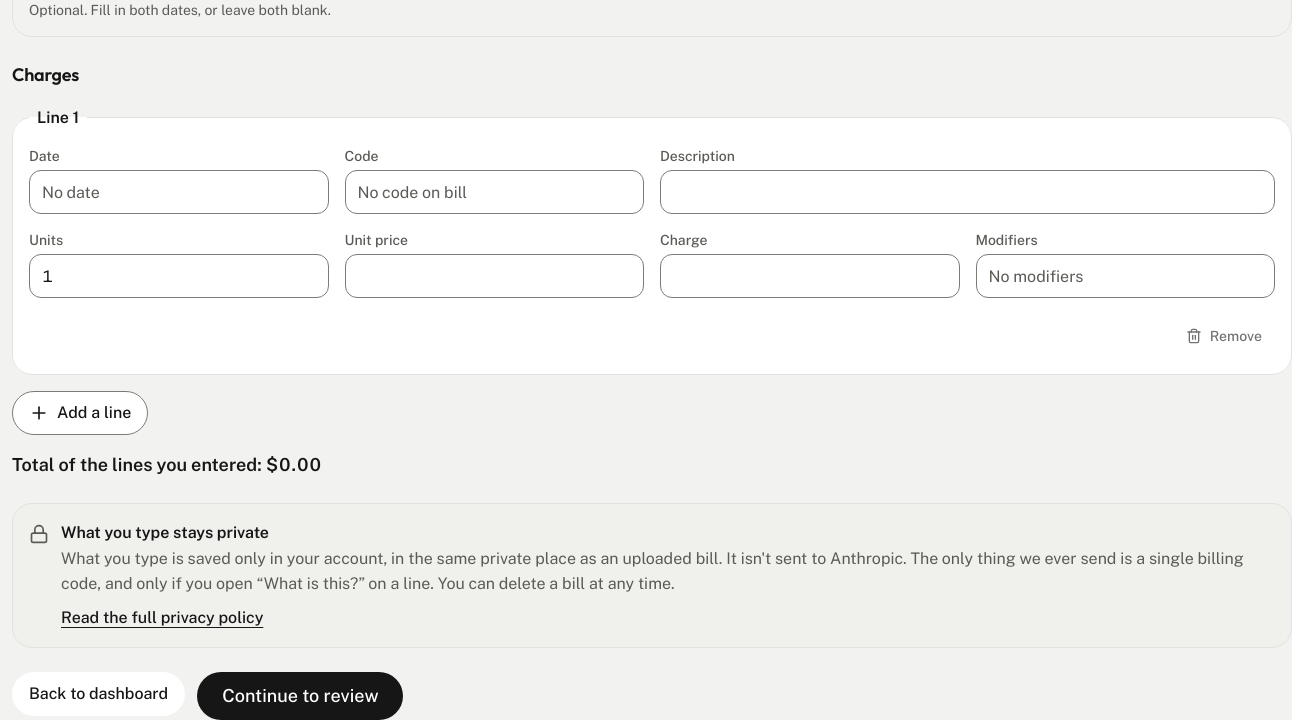
it: ManualEntryForm › does not submit a blank form and says what is missing
(page scrolled)
Click the button "Continue to review" at coordinates (300, 696), box [197,672,404,719]
(page scrolled)
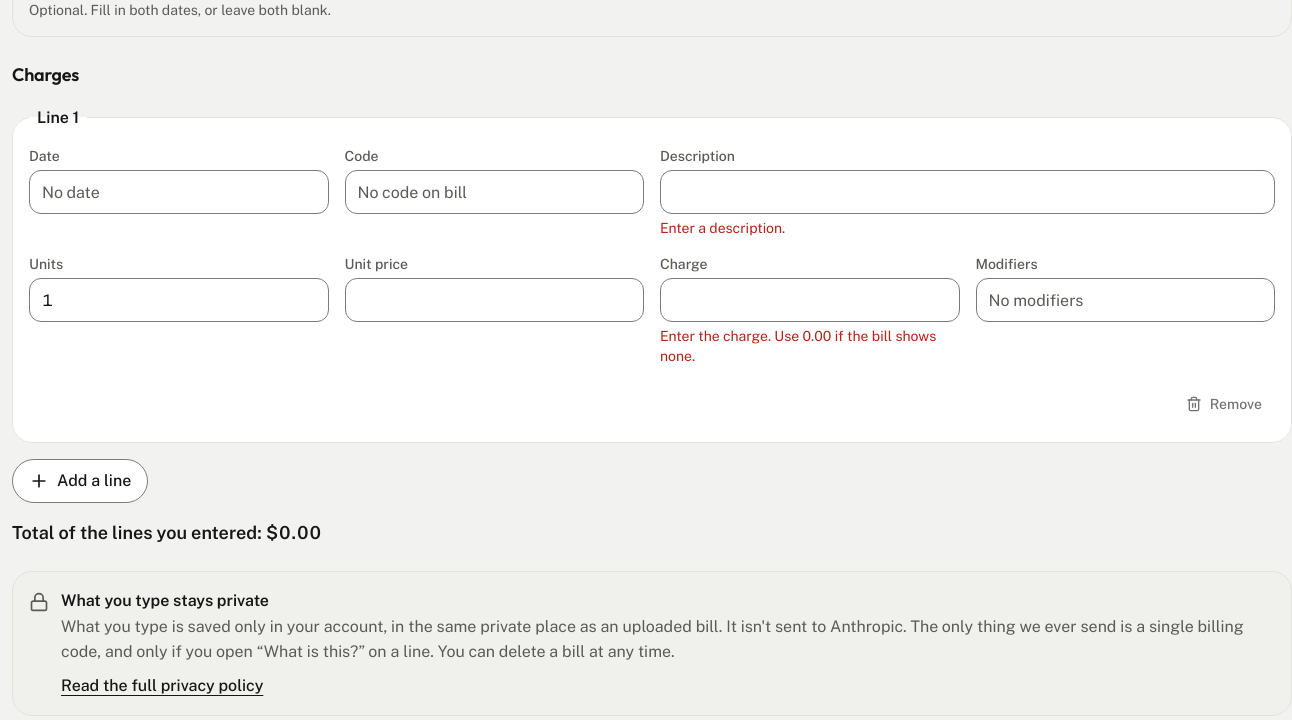
Expected: the text "Enter a description." is shown, [660,220,785,236]
Expected: the text "Enter the charge. Use 0.00 if the bill shows none." is shown, [660,326,960,366]
